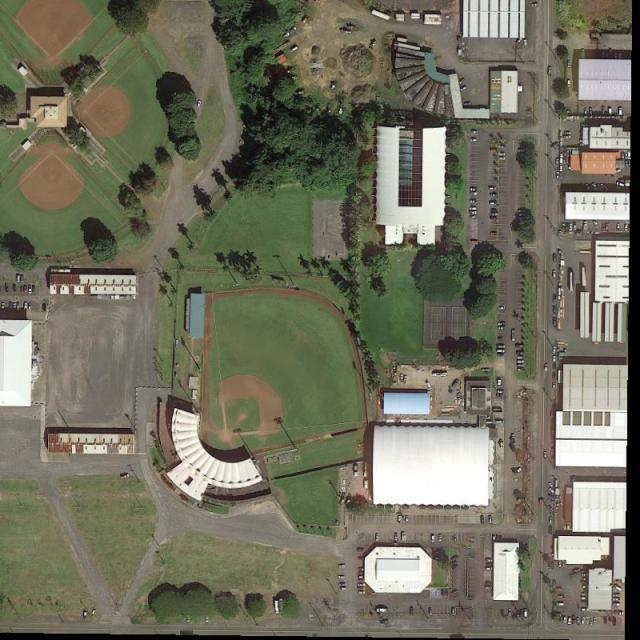vehicle: (289, 26, 298, 36), (585, 183, 593, 193), (592, 183, 600, 193), (275, 600, 280, 615), (282, 32, 290, 41), (376, 608, 388, 614), (548, 487, 556, 496), (548, 493, 556, 502), (450, 555, 459, 563), (458, 77, 466, 86), (120, 473, 130, 480), (548, 498, 556, 506), (451, 563, 459, 571), (290, 46, 299, 53), (614, 585, 623, 592), (551, 346, 558, 355), (616, 181, 625, 188), (460, 85, 469, 92), (364, 480, 370, 490), (82, 611, 88, 621), (614, 611, 624, 617), (553, 316, 558, 328), (601, 106, 606, 118), (511, 330, 516, 342), (515, 343, 525, 349), (516, 350, 526, 356), (523, 39, 529, 49), (547, 66, 552, 78), (354, 464, 358, 478), (573, 567, 581, 574), (485, 581, 496, 586), (581, 49, 586, 60), (557, 594, 566, 600), (598, 184, 604, 193), (618, 107, 624, 116), (402, 375, 408, 384), (531, 2, 540, 8), (489, 147, 498, 153), (24, 302, 29, 312), (9, 302, 14, 312), (205, 614, 210, 624), (402, 532, 407, 542), (28, 284, 33, 294), (551, 450, 556, 460), (553, 253, 558, 263), (556, 602, 566, 607), (621, 150, 626, 160), (566, 78, 571, 88), (470, 240, 480, 245), (511, 434, 516, 444), (548, 482, 555, 489), (548, 504, 554, 512), (428, 608, 434, 616), (600, 184, 606, 192), (604, 184, 610, 192), (399, 374, 405, 382), (197, 100, 202, 109), (24, 285, 29, 294), (5, 283, 10, 292), (612, 617, 617, 626), (544, 364, 549, 373), (553, 306, 558, 315), (552, 270, 557, 279), (492, 535, 497, 544), (573, 222, 578, 231), (517, 355, 526, 360), (431, 535, 436, 544), (438, 534, 443, 543), (490, 193, 499, 198), (13, 302, 17, 313), (410, 606, 414, 617), (610, 49, 614, 60), (582, 220, 588, 227), (358, 571, 366, 576), (358, 566, 366, 571), (379, 620, 389, 624), (394, 532, 398, 542), (338, 582, 346, 587), (19, 286, 24, 294), (21, 274, 26, 282), (612, 603, 622, 607), (603, 617, 608, 625), (543, 451, 548, 459), (612, 594, 622, 598), (566, 222, 570, 232), (451, 607, 456, 615), (520, 610, 525, 618), (481, 515, 485, 525), (489, 515, 493, 525), (563, 617, 568, 625), (486, 558, 494, 563), (609, 108, 614, 116), (606, 50, 610, 60), (606, 222, 610, 232), (490, 231, 498, 236), (518, 212, 526, 217), (454, 534, 458, 544), (470, 187, 478, 192), (470, 199, 478, 204), (470, 206, 478, 211), (470, 210, 478, 215), (498, 152, 506, 157), (488, 187, 498, 191), (564, 130, 572, 135), (2, 302, 6, 311), (186, 614, 190, 623), (549, 516, 553, 525), (552, 381, 556, 390), (524, 609, 528, 618), (581, 608, 590, 612), (558, 559, 562, 568), (562, 559, 566, 568), (618, 53, 622, 62), (626, 159, 630, 168), (625, 150, 629, 159), (589, 107, 593, 116), (614, 53, 618, 62), (489, 202, 498, 206), (562, 135, 571, 139), (508, 609, 513, 616), (516, 611, 521, 618), (581, 618, 586, 625), (593, 219, 598, 226), (518, 359, 525, 364), (499, 145, 506, 150), (42, 303, 46, 311), (398, 515, 402, 523), (358, 579, 366, 583), (375, 534, 379, 542), (405, 515, 409, 523), (338, 575, 346, 579), (339, 564, 347, 568), (17, 274, 21, 282), (358, 587, 366, 591), (568, 617, 572, 625), (572, 618, 576, 626), (577, 618, 581, 626), (590, 618, 594, 626), (594, 618, 598, 626), (582, 593, 590, 597), (556, 171, 560, 179), (617, 224, 621, 232), (624, 224, 628, 232), (556, 158, 560, 166), (486, 567, 494, 571), (498, 306, 506, 310), (498, 322, 506, 326), (498, 326, 506, 330), (490, 209, 498, 213), (518, 364, 526, 368), (518, 368, 526, 372), (470, 138, 478, 142), (498, 156, 506, 160), (17, 302, 20, 312), (556, 587, 562, 592), (359, 576, 366, 580), (13, 284, 17, 291), (358, 591, 365, 595), (553, 356, 557, 363), (562, 223, 566, 230), (485, 587, 492, 591), (602, 224, 606, 231), (559, 172, 563, 179), (472, 130, 479, 134), (559, 158, 563, 165), (29, 302, 32, 311), (357, 584, 366, 587), (570, 223, 573, 232), (497, 350, 506, 353), (340, 587, 346, 591), (582, 598, 590, 601), (567, 60, 570, 68), (518, 210, 526, 213), (498, 345, 506, 348), (497, 354, 505, 357), (490, 213, 498, 216), (584, 108, 587, 115), (490, 217, 497, 220), (582, 574, 589, 577), (33, 286, 35, 294), (1, 284, 2, 292)
